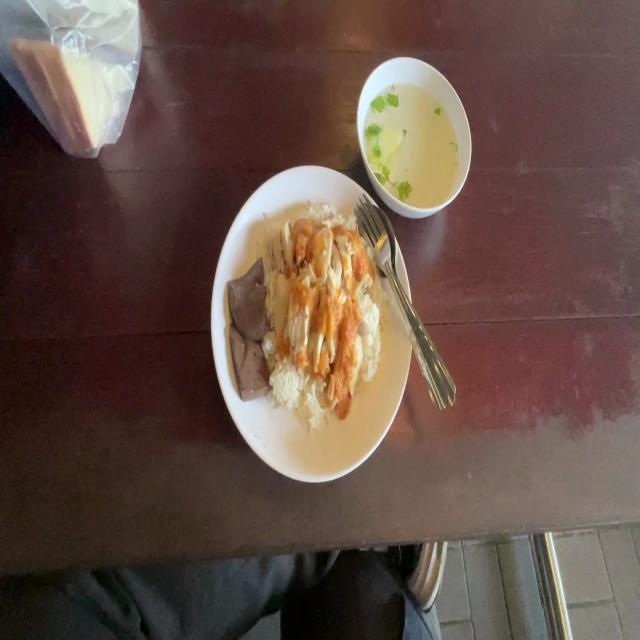chicken_rice: (271, 220, 362, 394)
noodle: (226, 255, 266, 338), (230, 317, 269, 396)
